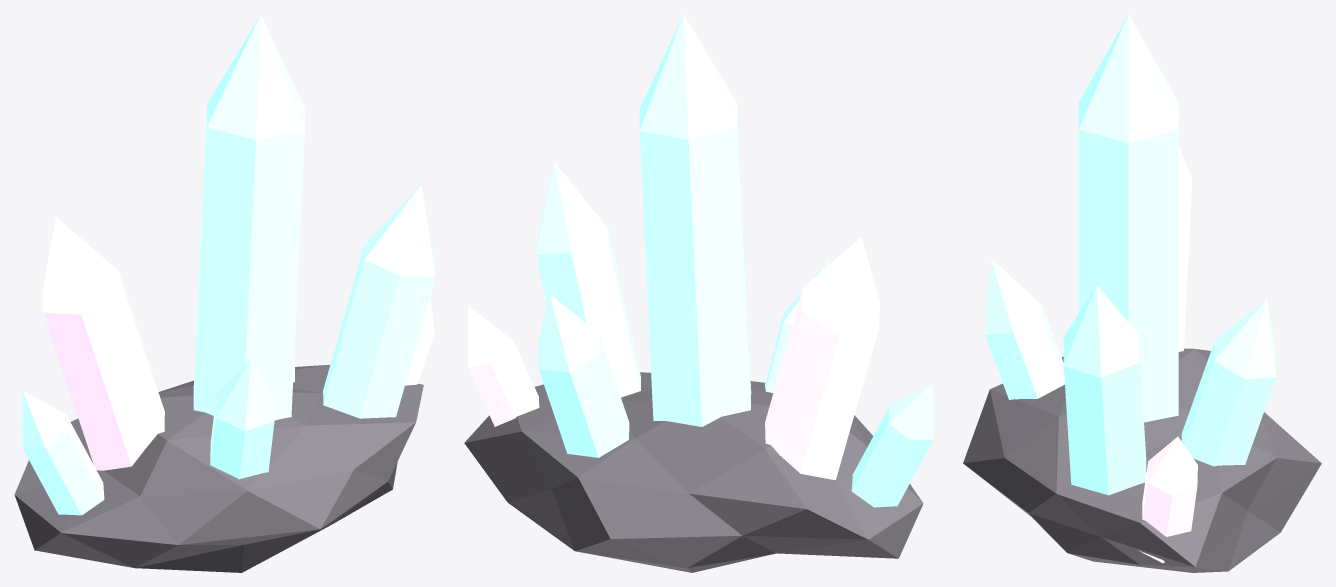
File: crystal_cluster.glb
The picture shows the model from 3 angles, left to right: view 1: azimuth 30°, elevation 25°; view 2: azimuth 150°, elevation 25°; view 3: azimuth 270°, elevation 25°; orthographic projection. The views are drawn at different scales.
Parts seen in each view (by area): view 1: crystal_cluster; view 2: crystal_cluster; view 3: crystal_cluster.
Boxes of the visible parts, x1,y1,x2,y2 form: crystal_cluster: (14,14,435,572); crystal_cluster: (464,14,934,572); crystal_cluster: (963,14,1321,572).
Bounding box in the file's own units: 0.8933 × 1.01 × 0.6215.
